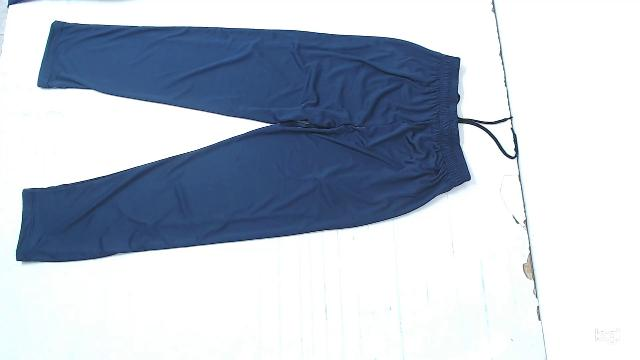new-garment: (16, 21, 498, 261)
